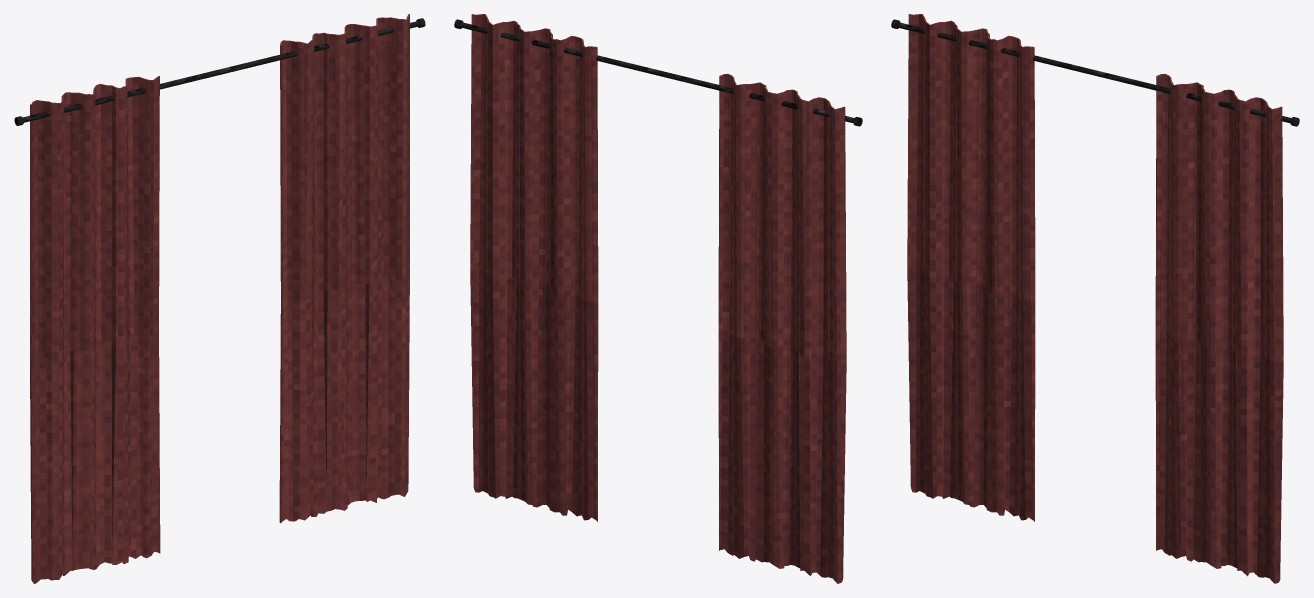
The model's file is curtains_final.fbx.
3 views of the same model, side by side, from view 1: azimuth 30°, elevation 25°; view 2: azimuth 150°, elevation 25°; view 3: azimuth 330°, elevation 25° (orthographic).
Parts seen in each view (by area): view 1: 502 Curtains; view 2: 502 Curtains; view 3: 502 Curtains.
Part boxes in pixels (<box>): 502 Curtains: <box>14,14,425,583</box>; 502 Curtains: <box>454,14,862,583</box>; 502 Curtains: <box>891,14,1299,583</box>.
Bounding box in the file's own units: 205 × 231 × 9.03.
